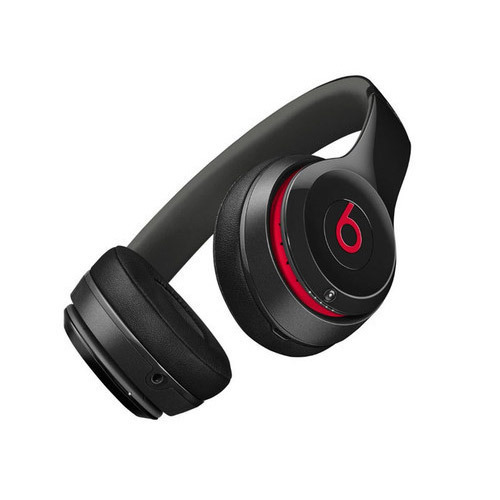Headphone: (58, 70, 421, 425)
